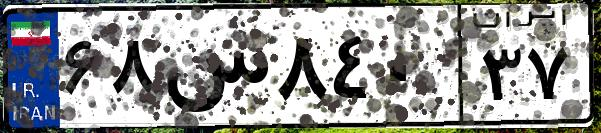0: (385, 28, 445, 110)
3: (475, 38, 525, 113)
4: (330, 28, 385, 110)
6: (57, 26, 110, 100)
7: (525, 38, 570, 115)
8: (270, 28, 330, 110), (110, 28, 158, 98)
س: (158, 20, 270, 120)
